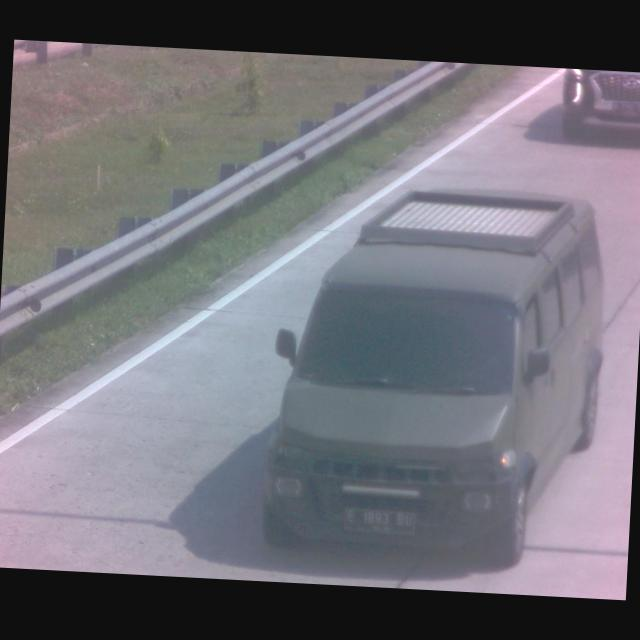plate: (341, 506, 416, 538)
